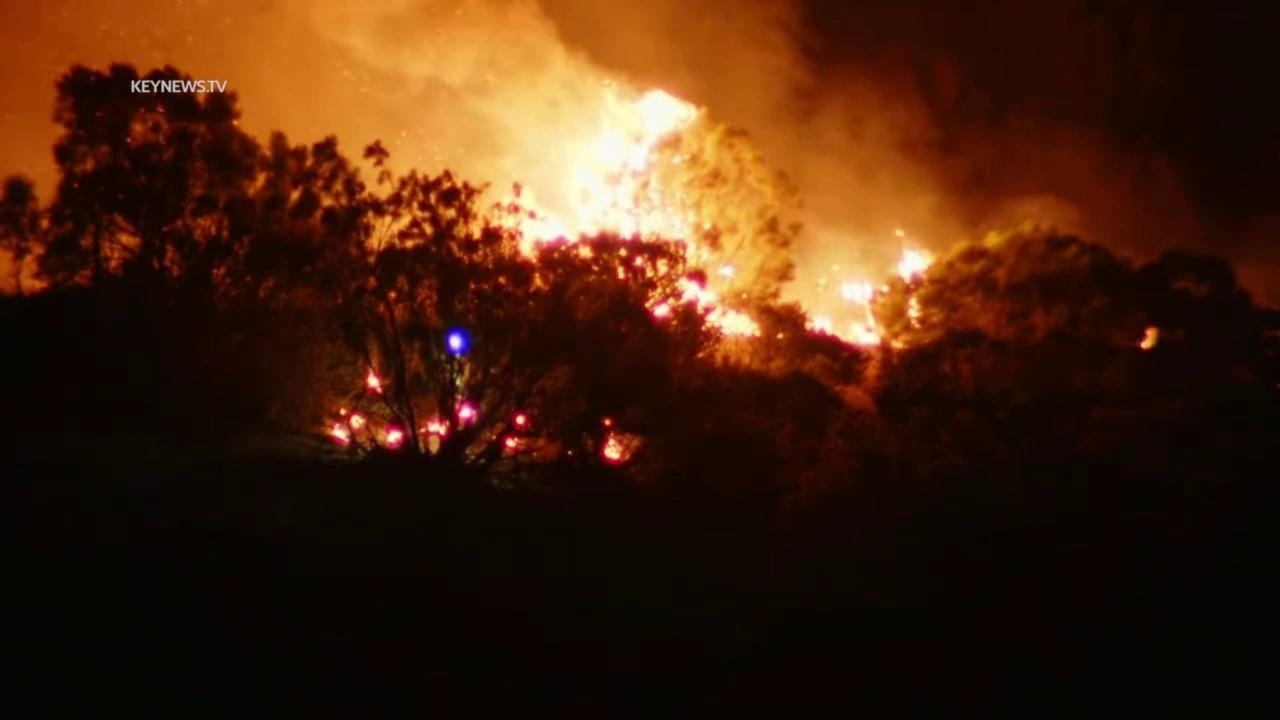fire: (507, 82, 763, 346), (800, 223, 944, 348), (418, 400, 476, 439), (325, 407, 368, 447), (596, 432, 645, 467), (359, 371, 388, 398), (1137, 326, 1164, 349), (384, 423, 406, 451), (511, 412, 527, 427), (505, 434, 519, 451), (599, 415, 612, 425)
smoke: (0, 0, 1280, 334)
